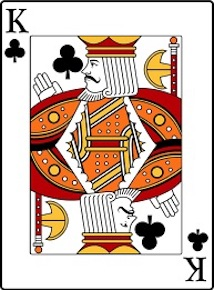KingOfClubs: (1, 3, 212, 290)
